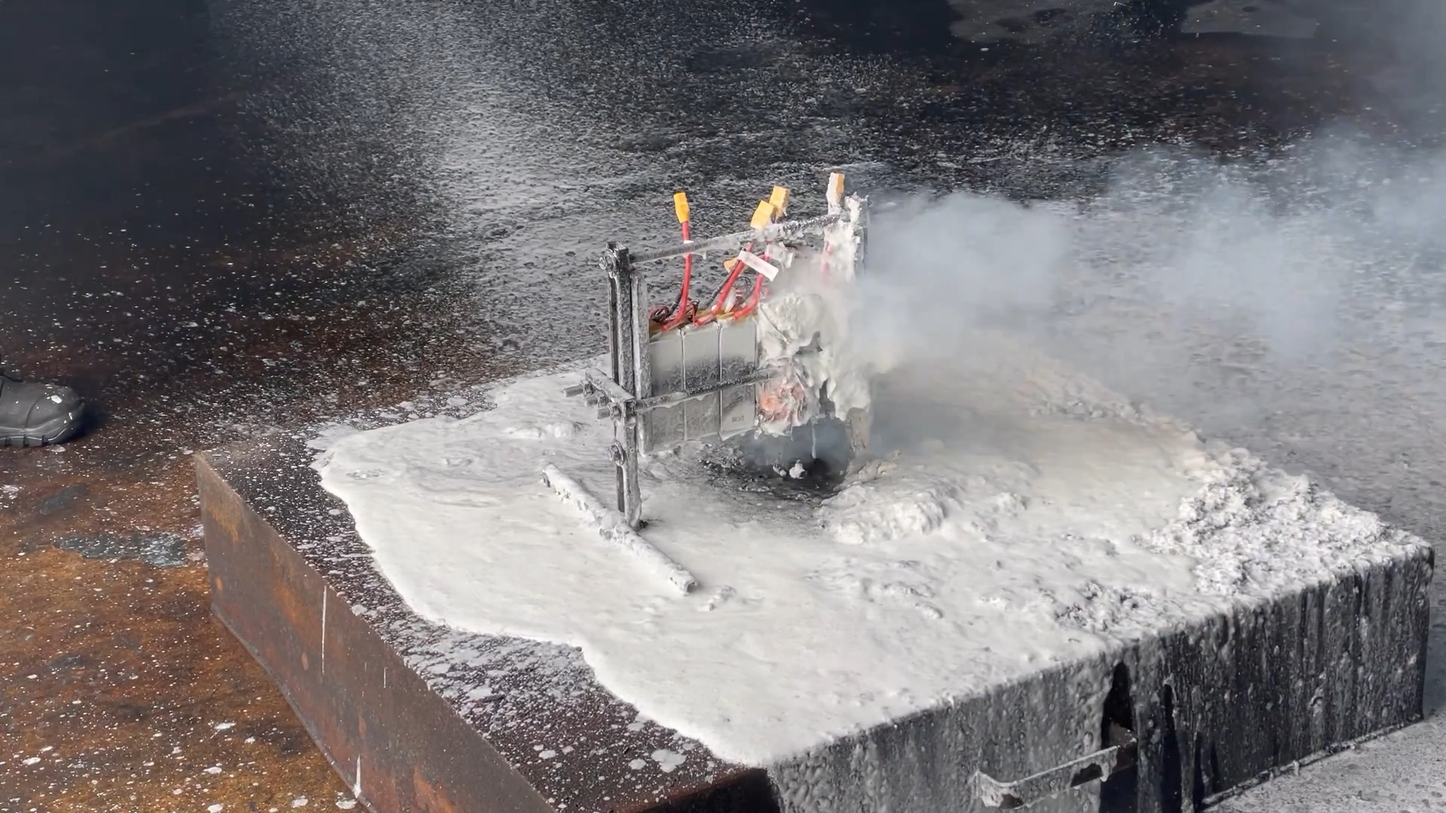smoke: (819, 166, 1227, 455)
